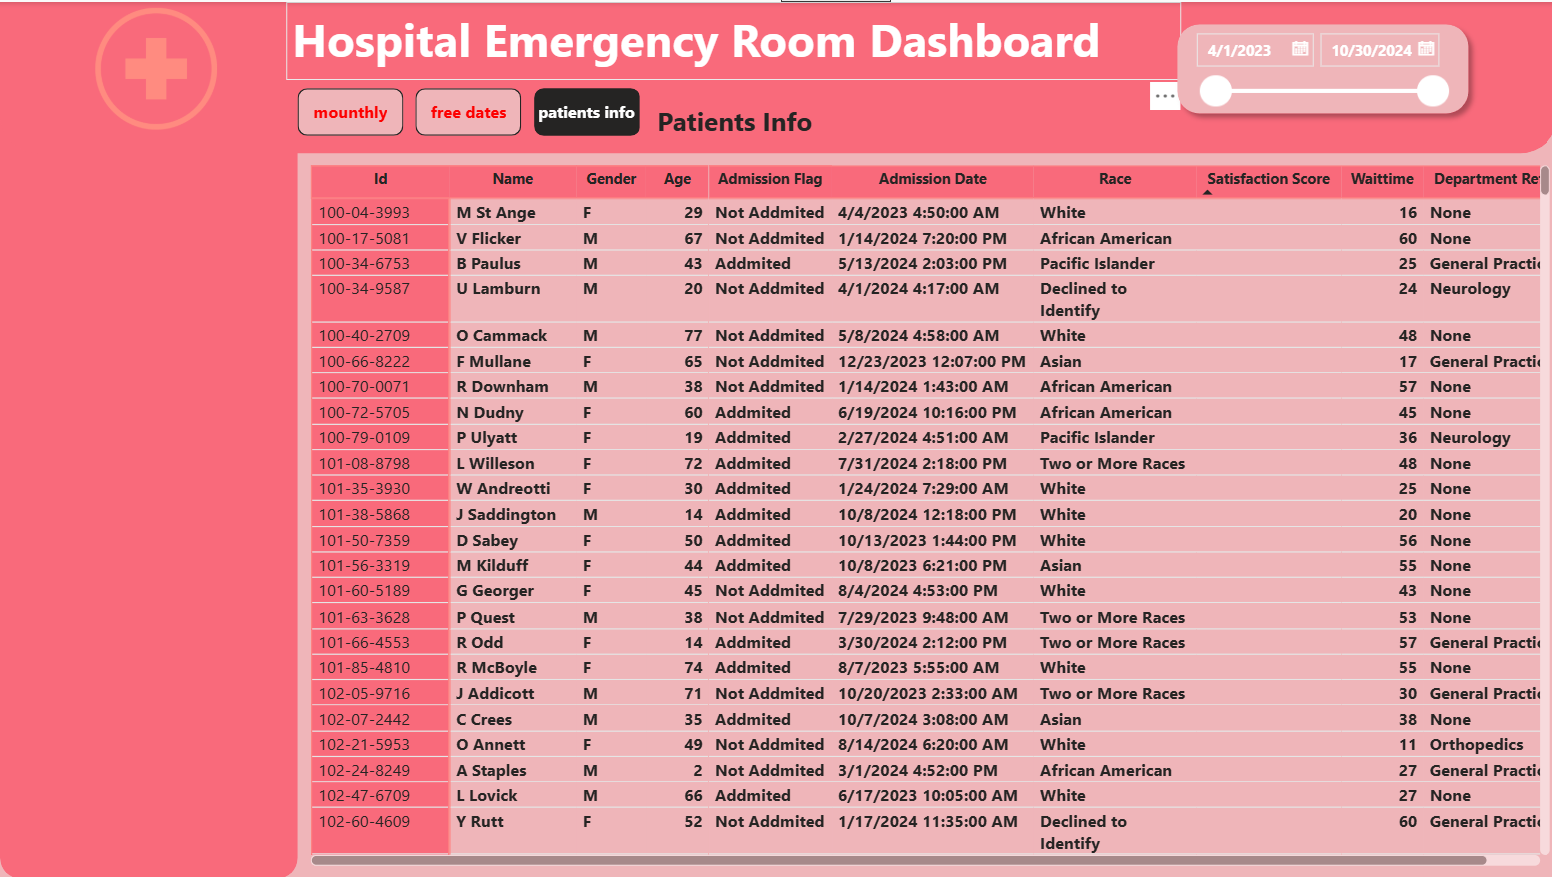

The page's visual inventory and layout, read from the dashboard file:
{"tool":"powerbi","page":{"name":"patients info","canvas":[1280,720],"ordinal":2},"visuals":[{"type":"shape","box":[0,0,244.6,720.1],"z":0},{"type":"image","box":[0,0,244.6,107.2],"z":1000},{"type":"shape","box":[0,0,1280,124.4],"z":2000},{"type":"textbox","box":[235,0,735.1,64.7],"z":3000},{"type":"image","box":[71.8,0,112.6,110],"z":4000},{"type":"shape","box":[957.6,8.9,257.1,91.3],"z":5000},{"type":"slicer","fields":{"Values":["date Table.Date"]},"box":[970,15.1,227.9,79.8],"z":6000},{"type":"pivotTable","fields":{"Rows":["Hospital ER_Data.Patient Id"],"Values":["Min(Hospital ER_Data.full patient name)","Min(Hospital ER_Data.Patient Gender)","Sum(Hospital ER_Data.Patient Age)","Min(Hospital ER_Data.Patient Admission Flag)","Min(Hospital ER_Data.Patient Admission Date)","Min(Hospital ER_Data.Patient Race)","Sum(Hospital ER_Data.Patient Satisfaction Score)","Sum(Hospital ER_Data.Patient Waittime)","Min(Hospital ER_Data.Department Referral)"]},"box":[250,129,1028.3,585.2],"z":7000},{"type":"textbox","box":[535,78,220.1,39.9],"z":8000},{"type":"pageNavigator","box":[244.7,70.9,282,39],"z":9000}]}

Visuals, with their boxes in screenshot pixels (x1, y1, x2, y2), scaled from the page's 1280x720 canvas onto the 1552x877 screenshot:
shape: 0, 0, 297, 876
image: 0, 0, 297, 131
shape: 0, 0, 1551, 152
textbox: 285, 0, 1176, 79
image: 87, 0, 224, 134
shape: 1161, 11, 1473, 122
slicer - date Table.Date: 1176, 18, 1452, 116
pivotTable - Hospital ER_Data.Patient Id x Min(Hospital ER_Data.full patient name): 303, 157, 1550, 870
textbox: 649, 95, 916, 144
pageNavigator: 297, 86, 639, 134
